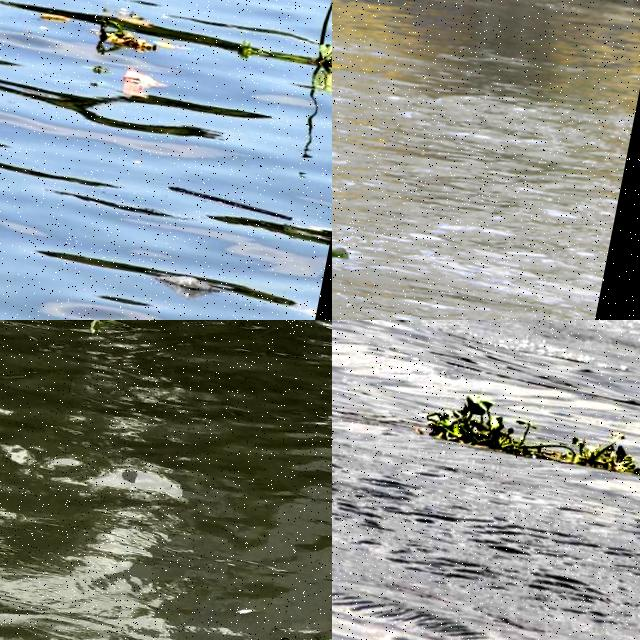water-hyacinth: (404, 386, 640, 492), (257, 1, 333, 78)
